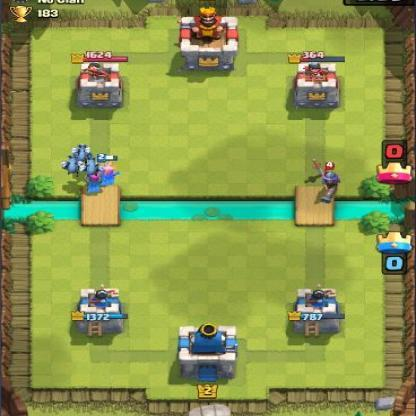ally_archer: (94, 152, 122, 190), (82, 170, 106, 198)
ally_minion: (74, 152, 108, 180), (58, 152, 90, 178), (69, 142, 98, 168)
enemy_musketeer: (315, 161, 342, 207)
